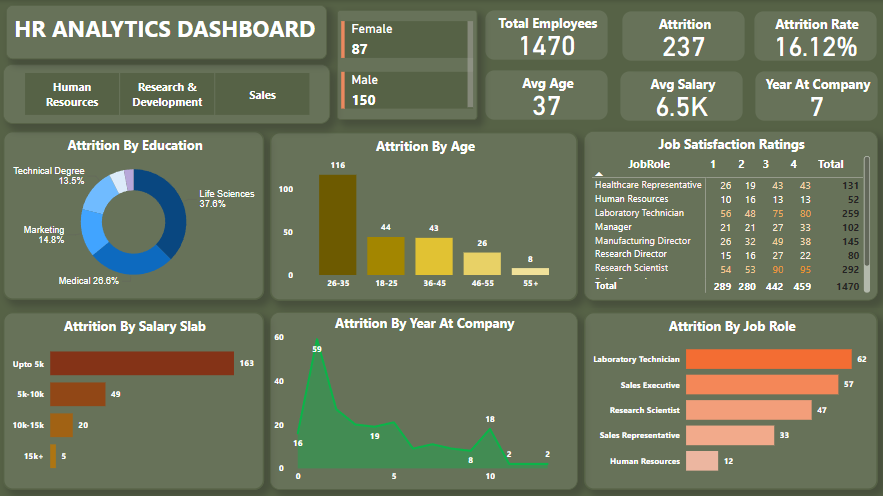

What the dashboard file says about the page in this screenshot:
{"tool":"powerbi","page":{"name":"Page 1","canvas":[1280,720],"ordinal":0},"visuals":[{"type":"card","title":"Total Employees","fields":{"Values":["Measures (2).Total Employees"]},"box":[701,13.2,180,74.6],"z":0},{"type":"card","title":"Year At Company","fields":{"Values":["Measures (2).Year At company"]},"box":[1090.2,101,180,74.6],"z":1},{"type":"card","title":"Avg Salary","fields":{"Values":["Measures (2).Average Salary"]},"box":[895.6,101,180,74.6],"z":2},{"type":"card","title":"Attrition Rate","fields":{"Values":["Measures (2).Attrition Rate"]},"box":[1088.8,14.6,180,74.6],"z":3},{"type":"card","title":"Avg Age","fields":{"Values":["Measures (2).Avg Age of employees"]},"box":[701,99.5,180,74.6],"z":4},{"type":"card","title":"Attrition","fields":{"Values":["Measures (2).No of attrition employees"]},"box":[898.5,14.6,180,74.6],"z":5},{"type":"donutChart","title":"Attrition By Education","fields":{"Y":["Measures (2).No of attrition employees"],"Category":["HR_Analytics.EducationField"]},"box":[8.8,188.8,376.1,242.9],"z":6},{"type":"columnChart","title":"Attrition By Age","fields":{"Y":["Measures (2).No of attrition employees"],"Category":["HR_Analytics.AgeGroup"]},"box":[393.7,190.2,443.4,242.9],"z":7},{"type":"pivotTable","title":"Job Satisfaction Ratings","fields":{"Rows":["HR_Analytics.JobRole"],"Columns":["HR_Analytics.JobSatisfaction"],"Values":["Measures (2).Total Employees"]},"box":[845.9,188.8,422.9,244.4],"z":8},{"type":"barChart","title":"Attrition By Salary Slab","fields":{"Category":["HR_Analytics.SalarySlab"],"Y":["Measures (2).No of attrition employees"]},"box":[8.8,449.3,376.1,256.1],"z":9},{"type":"areaChart","title":"Attrition By Year At Company","fields":{"Y":["Measures (2).No of attrition employees"],"Category":["HR_Analytics.YearsAtCompany"]},"box":[393.7,449.3,443.4,256.1],"z":10},{"type":"barChart","title":"Attrition By Job Role","fields":{"Y":["Measures (2).No of attrition employees"],"Category":["HR_Analytics.JobRole"]},"box":[845.9,449.3,422.9,256.1],"z":11},{"type":"slicer","fields":{"Values":["HR_Analytics.Department"]},"box":[8.8,92.2,471.2,86.3],"z":12},{"type":"multiRowCard","fields":{"Values":["HR_Analytics.Gender","Measures (2).No of attrition employees"]},"box":[490.2,14.6,202,158],"z":13},{"type":"textbox","box":[13.2,7.3,462.4,77.6],"z":14}]}

Visuals, with their boxes in screenshot pixels (x1, y1, x2, y2), scaled from the page's 1280x720 canvas onto the 883x496 screenshot:
"Total Employees" card: detection(484, 9, 608, 60)
"Year At Company" card: detection(752, 70, 876, 121)
"Avg Salary" card: detection(618, 70, 742, 121)
"Attrition Rate" card: detection(751, 10, 875, 61)
"Avg Age" card: detection(484, 69, 608, 120)
"Attrition" card: detection(620, 10, 744, 61)
"Attrition By Education" donutChart: detection(6, 130, 266, 297)
"Attrition By Age" columnChart: detection(272, 131, 577, 298)
"Job Satisfaction Ratings" pivotTable: detection(584, 130, 875, 298)
"Attrition By Salary Slab" barChart: detection(6, 310, 266, 486)
"Attrition By Year At Company" areaChart: detection(272, 310, 577, 486)
"Attrition By Job Role" barChart: detection(584, 310, 875, 486)
slicer - HR_Analytics.Department: detection(6, 64, 331, 123)
multiRowCard - HR_Analytics.Gender x Measures (2).No of attrition employees: detection(338, 10, 478, 119)
textbox: detection(9, 5, 328, 58)
